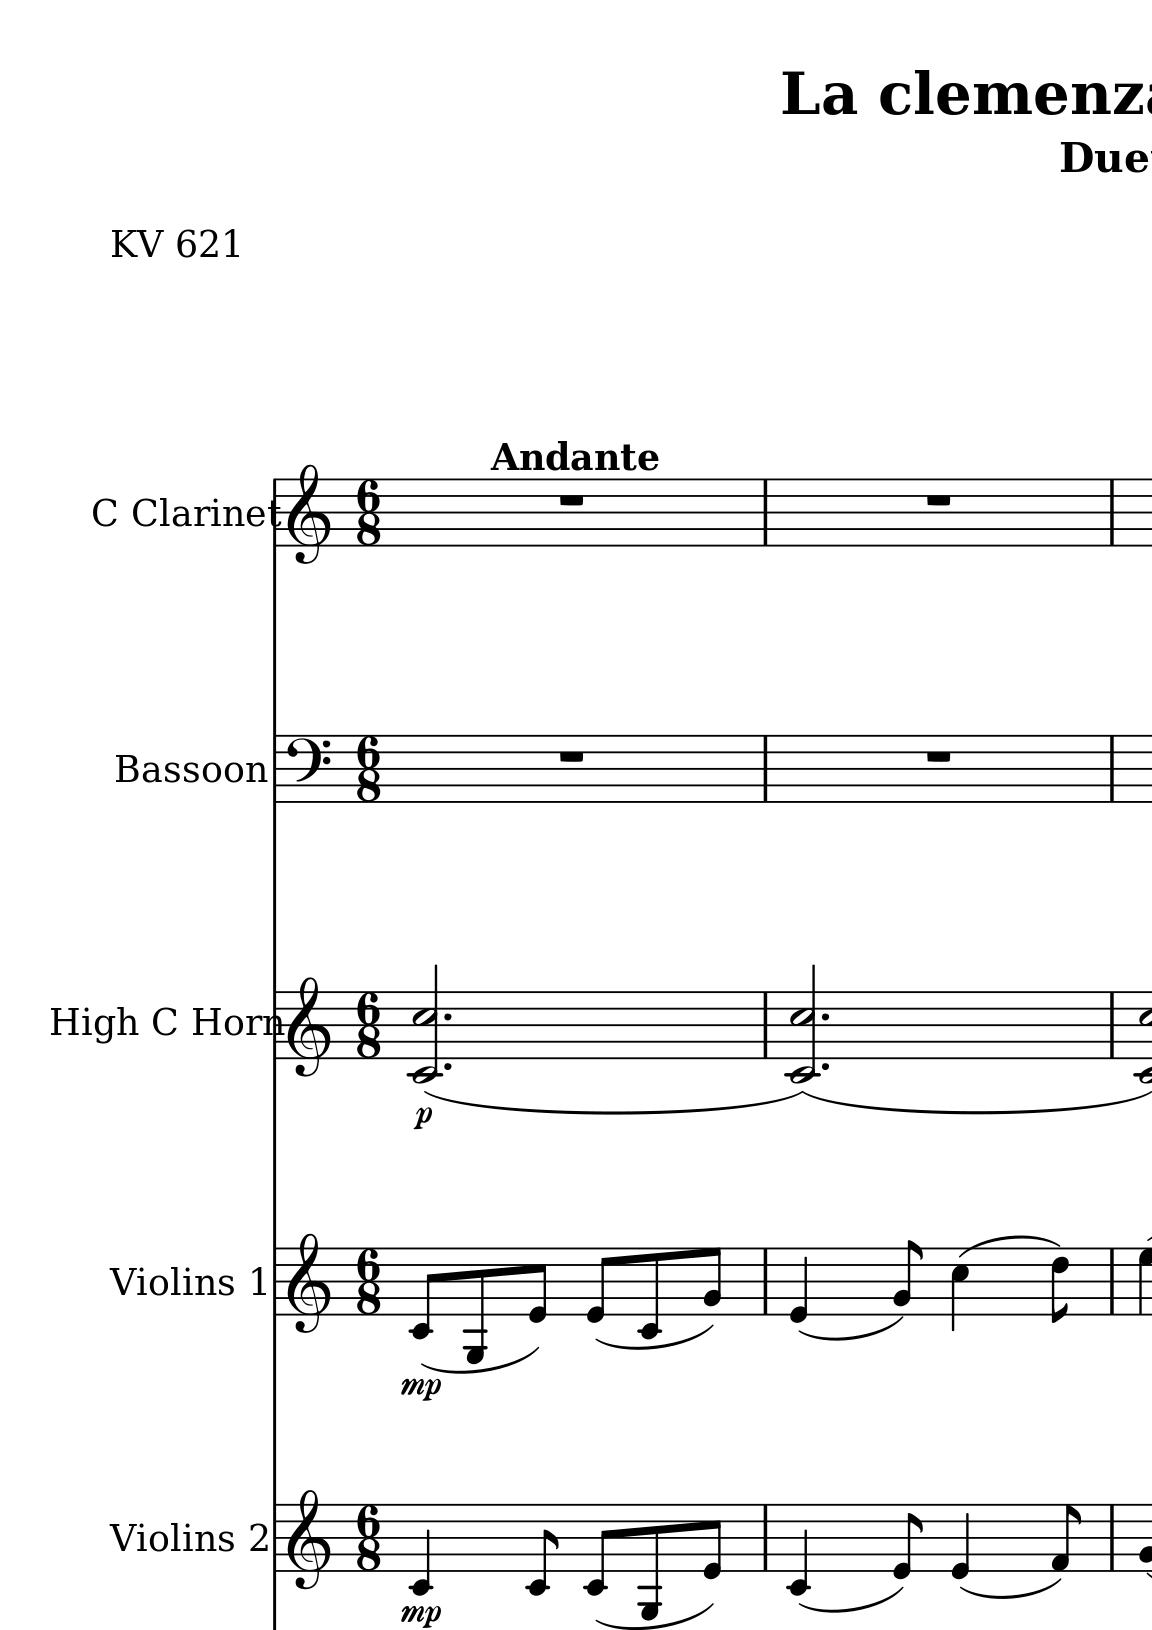2_-2_5: (782, 965, 820, 1085), (406, 963, 444, 1084)
4_-2: (406, 1502, 433, 1598), (784, 1502, 809, 1598)
4_0: (785, 1246, 809, 1326), (949, 1503, 971, 1581)
4_5: (949, 1246, 971, 1333)
6: (352, 1246, 382, 1281), (353, 988, 382, 1024), (354, 733, 382, 770), (354, 1500, 382, 1537), (353, 477, 382, 511)
8: (353, 768, 383, 804), (353, 1280, 383, 1315), (354, 1024, 383, 1060), (354, 1537, 382, 1573), (354, 512, 382, 547)
8_-2: (522, 1502, 560, 1598), (406, 1246, 439, 1342), (581, 1503, 612, 1598), (637, 1245, 662, 1340)
8_-5: (636, 1502, 662, 1623), (463, 1246, 487, 1366)
8_0: (891, 1500, 924, 1580), (583, 1246, 612, 1325), (701, 1502, 723, 1581), (526, 1246, 549, 1325)
8_1: (1049, 1503, 1081, 1574)
8_2: (891, 1237, 923, 1315), (701, 1246, 723, 1317)
8_6: (1049, 1246, 1071, 1327)
Bass: (113, 751, 206, 784)
Cl: (130, 493, 170, 528)
Fclef: (284, 734, 330, 805)
Gclef: (286, 462, 330, 566), (286, 975, 330, 1078), (286, 1231, 330, 1335), (286, 1488, 330, 1591)
Rests1: (554, 489, 588, 510), (921, 490, 955, 510), (923, 746, 954, 766), (555, 746, 587, 765)
Single_barline: (266, 479, 284, 548), (756, 1249, 774, 1315), (267, 735, 284, 805), (756, 479, 773, 547), (1103, 735, 1121, 803), (269, 989, 286, 1062), (756, 736, 773, 803), (267, 1247, 283, 1316), (1105, 479, 1121, 546), (268, 1504, 284, 1571), (1103, 1247, 1120, 1313), (757, 1505, 773, 1571), (757, 993, 773, 1058), (1105, 992, 1120, 1058), (1105, 1505, 1120, 1569)
Slur: (803, 1089, 1150, 1117), (424, 1090, 803, 1115), (418, 1347, 544, 1376), (593, 1603, 717, 1630), (596, 1325, 714, 1351), (800, 1315, 908, 1342), (799, 1586, 904, 1614), (959, 1235, 1061, 1257), (960, 1580, 1062, 1603)
TimeSig: (354, 991, 384, 1060), (353, 1247, 383, 1317), (353, 1503, 383, 1573), (354, 479, 382, 547), (354, 735, 382, 803)
dot: (819, 1009, 832, 1024), (819, 1060, 832, 1074), (441, 1009, 453, 1024), (441, 1060, 453, 1074)
mp: (398, 1375, 445, 1403), (398, 1601, 443, 1629)
p: (410, 1104, 431, 1133)
